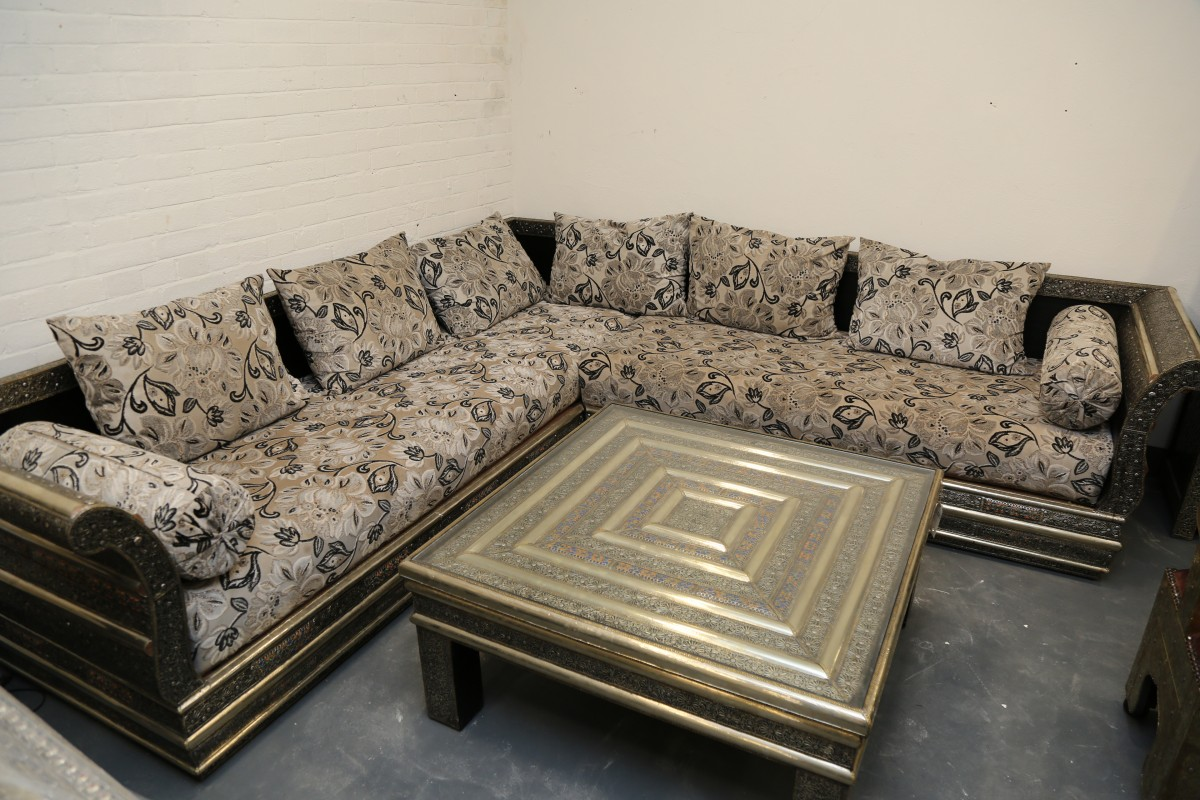chairs: (6, 211, 1200, 773)
